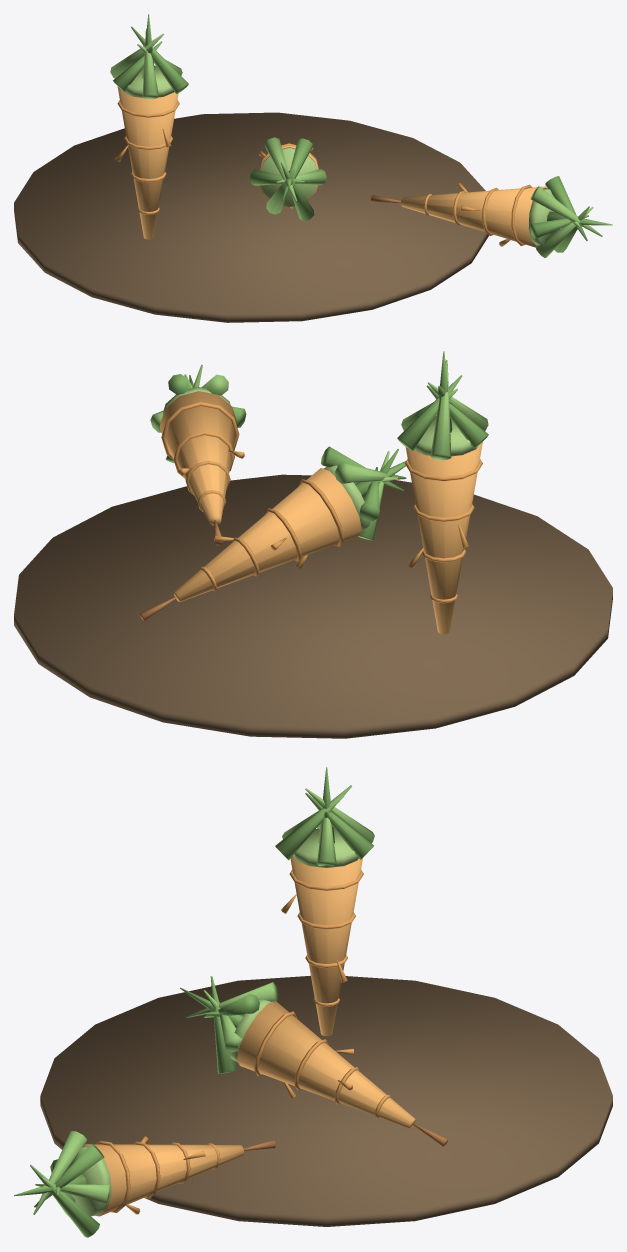
File: weapon-carrot-darts.fbx
The picture shows the model from 3 angles, top to bottom: view 1: azimuth 30°, elevation 25°; view 2: azimuth 150°, elevation 25°; view 3: azimuth 270°, elevation 25°; orthographic projection. The views are drawn at different scales.
Parts seen in each view (by area): view 1: CarrotDarts; view 2: CarrotDarts; view 3: CarrotDarts.
Part boxes in pixels (x1=…): CarrotDarts: x1=14, y1=14, x2=612, y2=322; CarrotDarts: x1=14, y1=351, x2=612, y2=738; CarrotDarts: x1=14, y1=767, x2=612, y2=1237.
Bounding box in the file's own units: 2.11 × 1.17 × 2.09.
